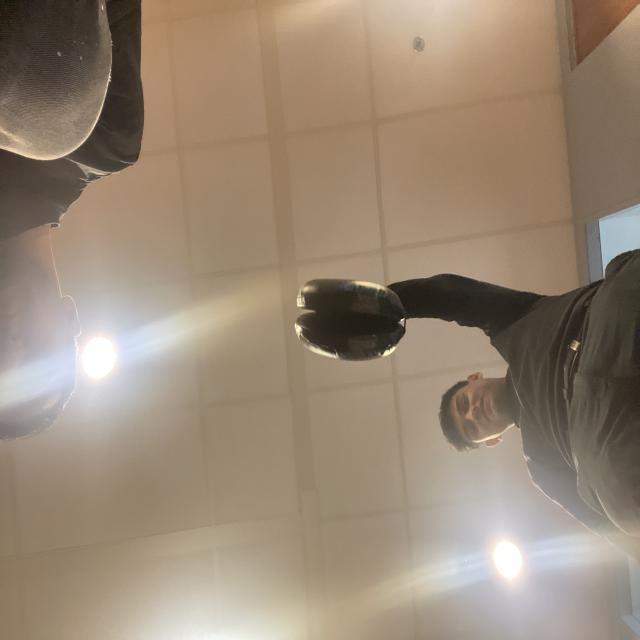paddle: (297, 274, 394, 356)
